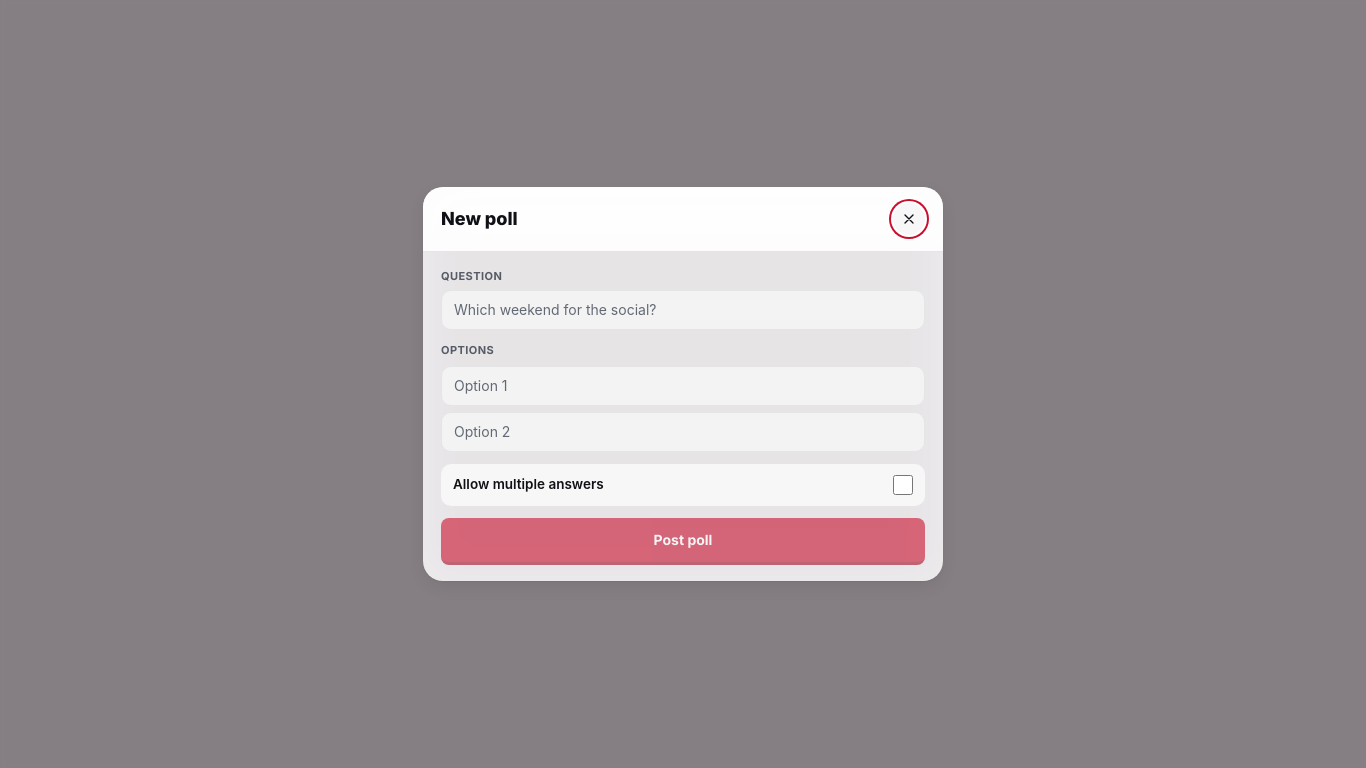
Test: PollComposer › keeps Post disabled until there is a question and two options
Expected: the button with test id "poll-create" is disabled, [441,518,925,565]
Type "Which weekend?" into the field with test id "poll-question". click: (683, 310)
box: [441,290,925,330]
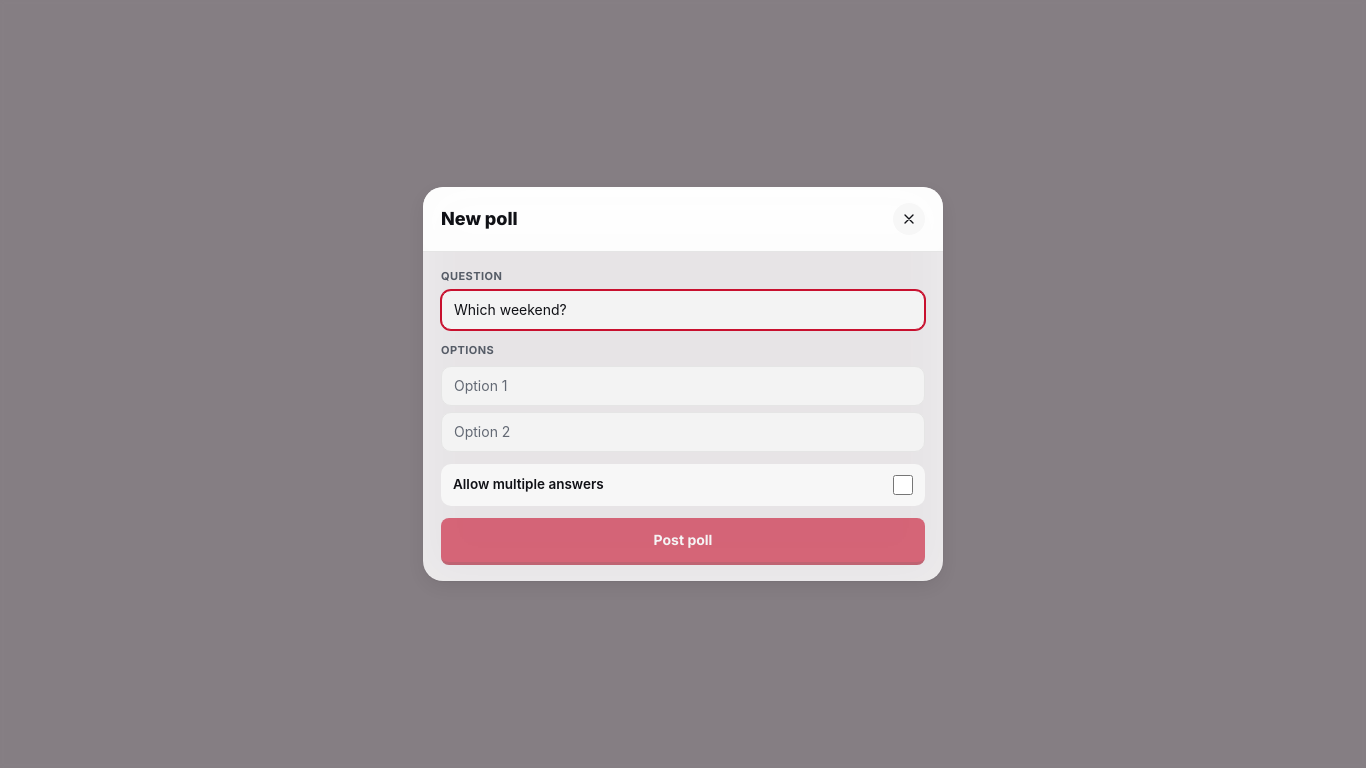
Type "Saturday" into the field with test id "poll-option-input-0". click: (683, 386)
box: [441,366,925,406]
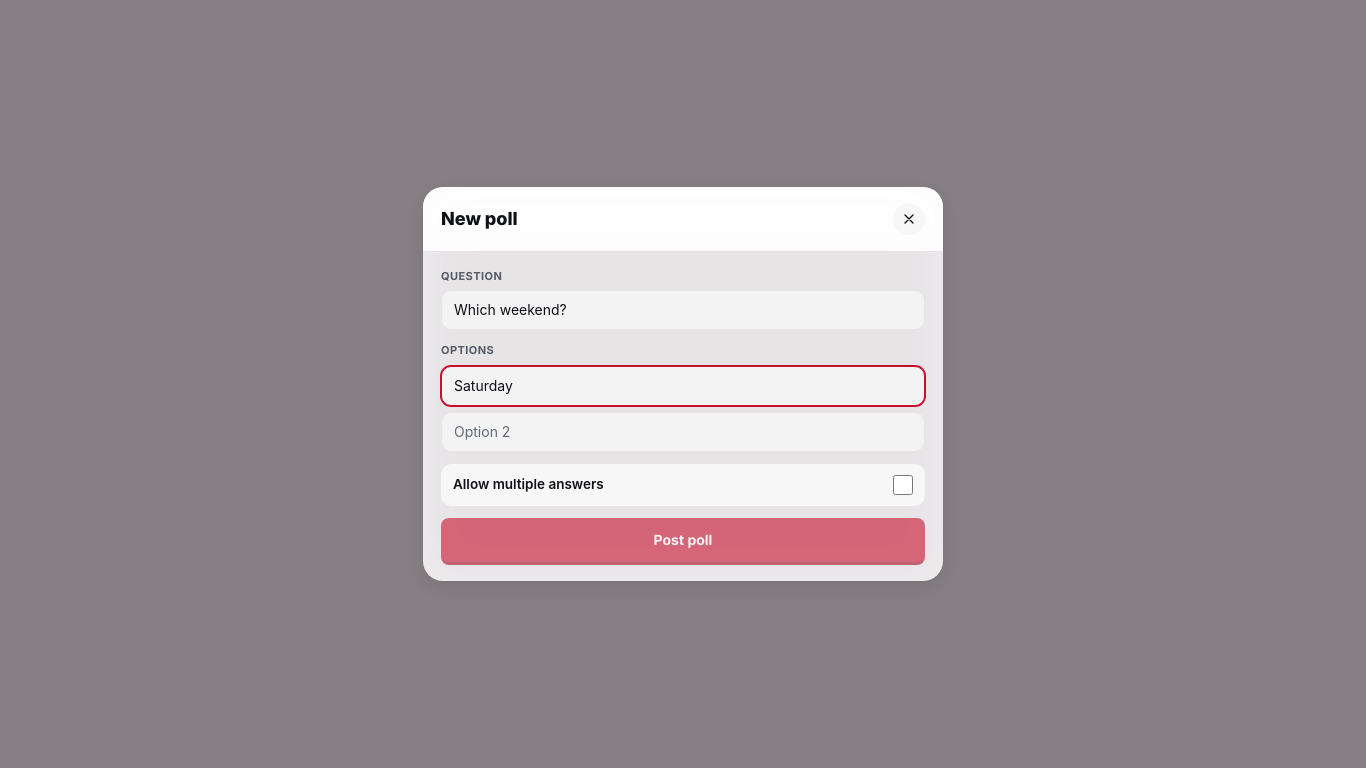
Expected: the button with test id "poll-create" is disabled, [441,518,925,565]
Type "Sunday" into the field with test id "poll-option-input-1". click: (683, 432)
box: [441,412,925,452]
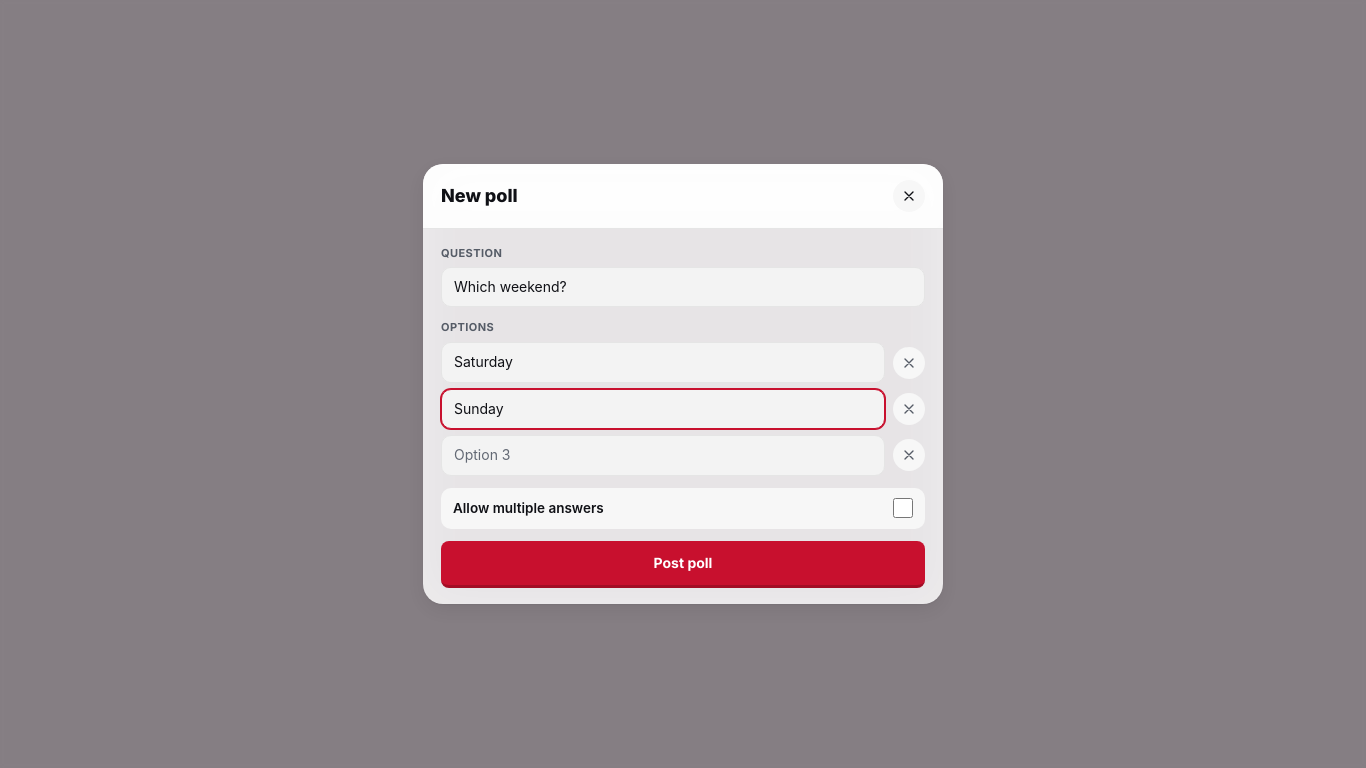
Result: the button with test id "poll-create" is enabled at [441,541,925,588]
